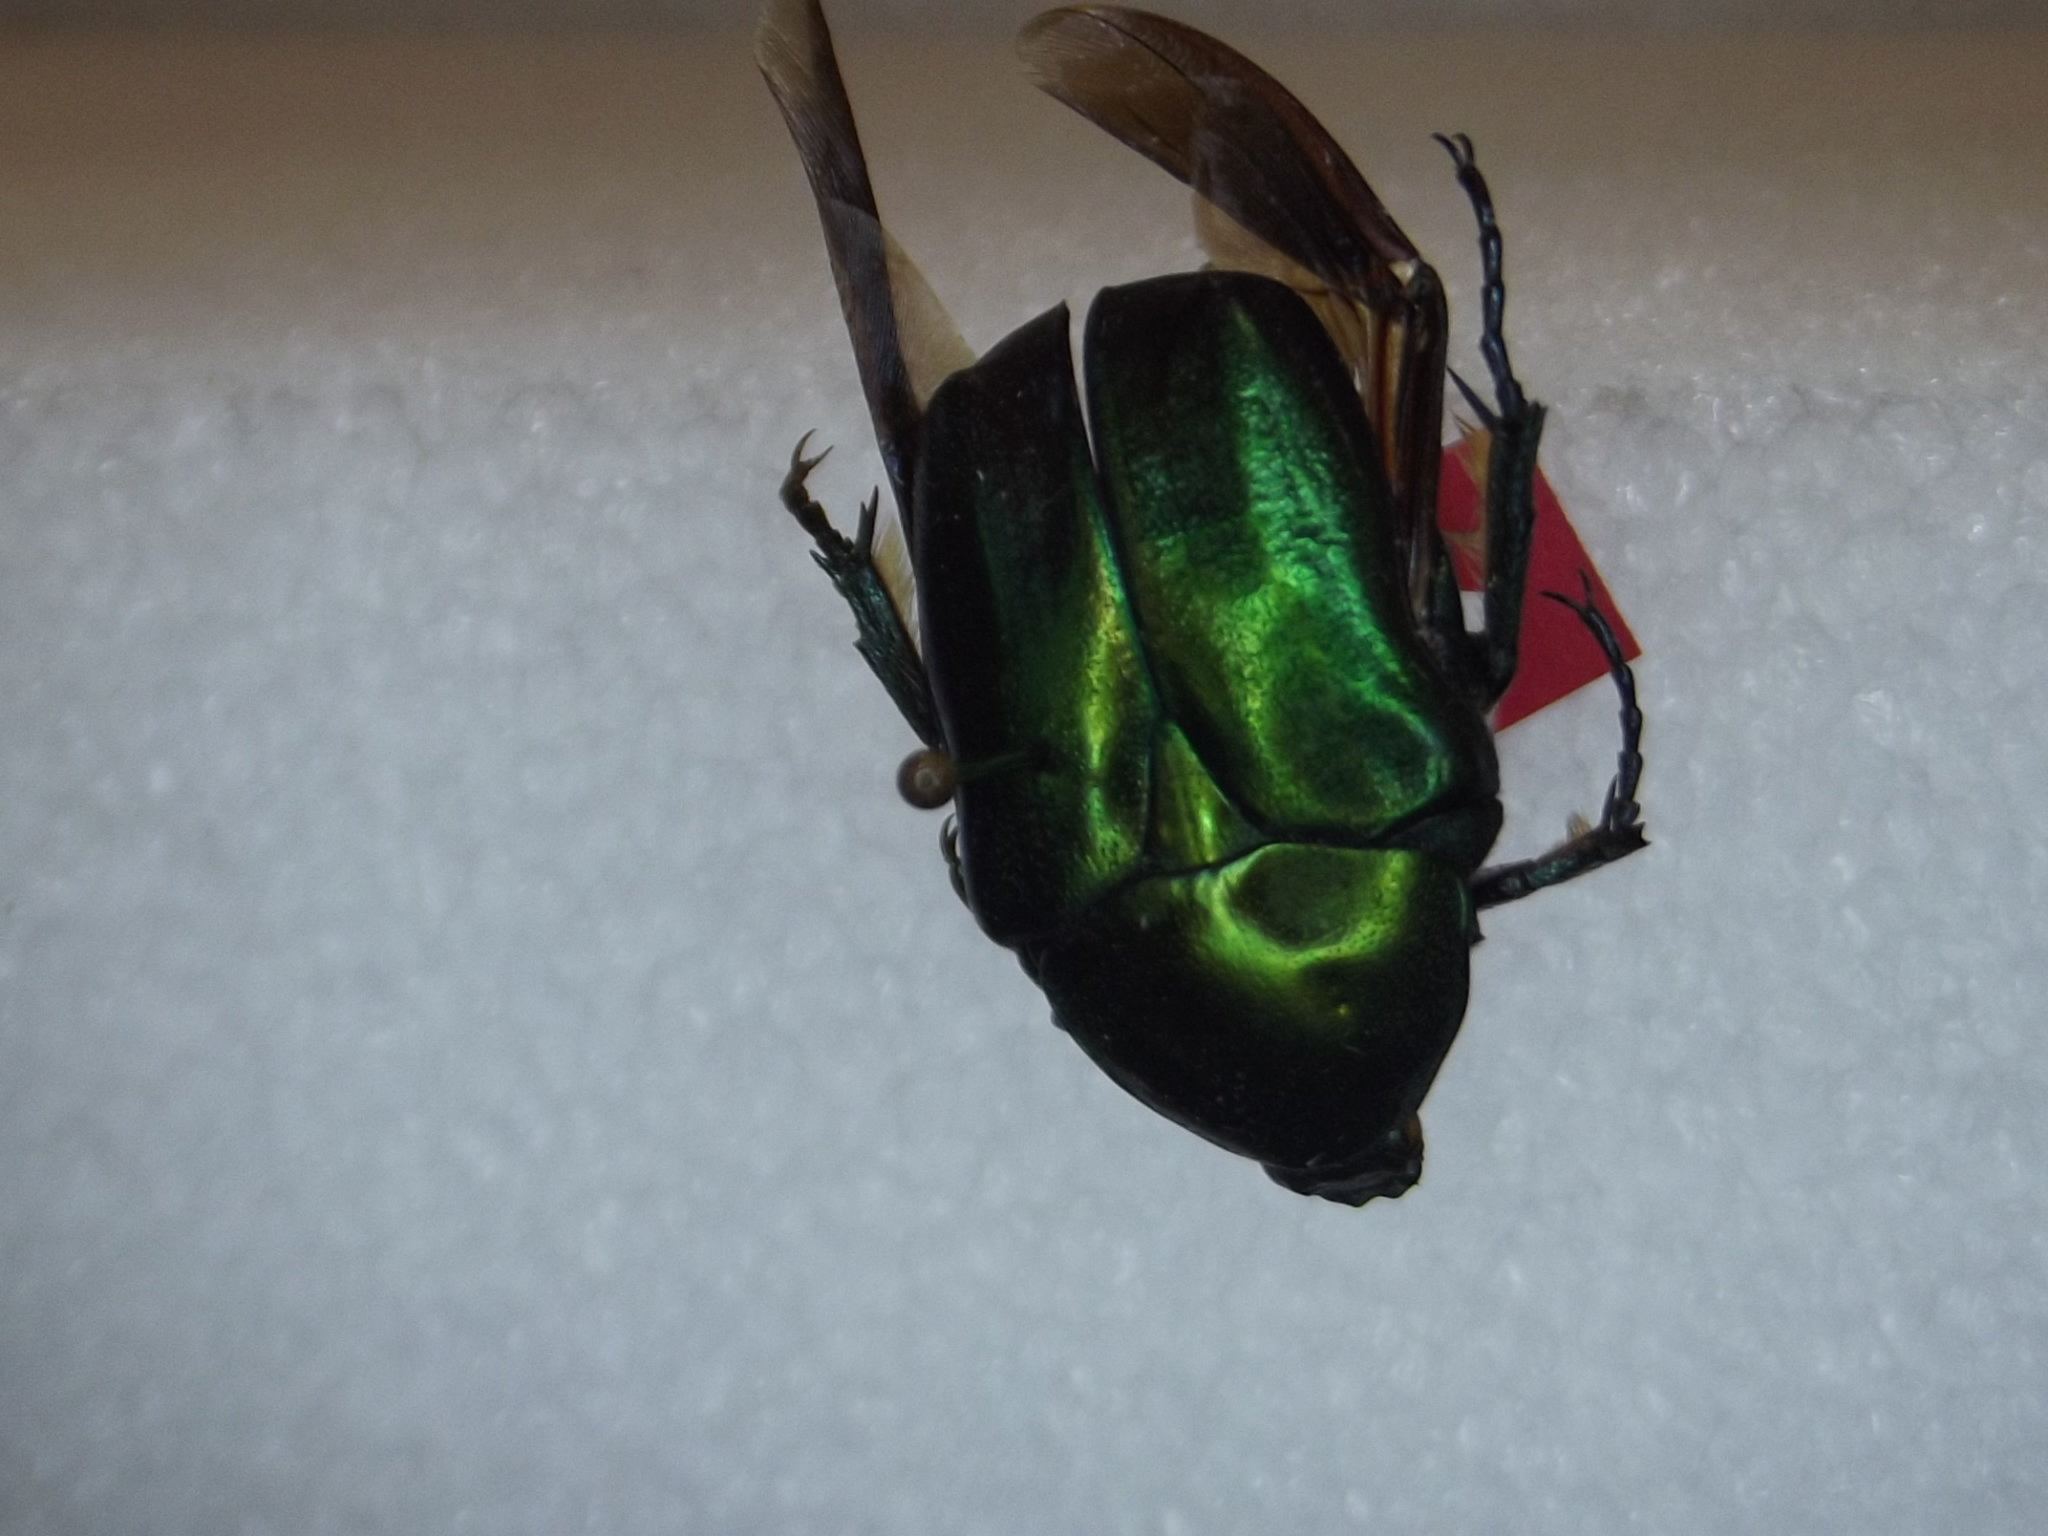Protaetia_besucheti: (655, 13, 1684, 1244), (1937, 1170, 2048, 1300)
